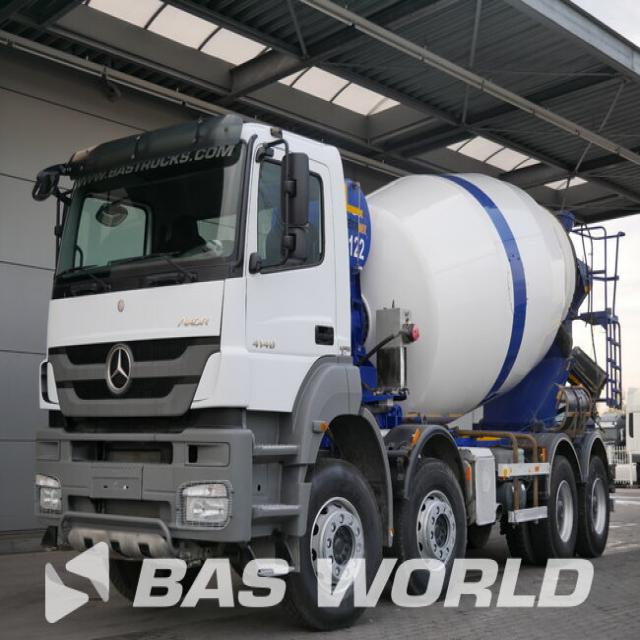Mixer Truck: (33, 116, 622, 630)
